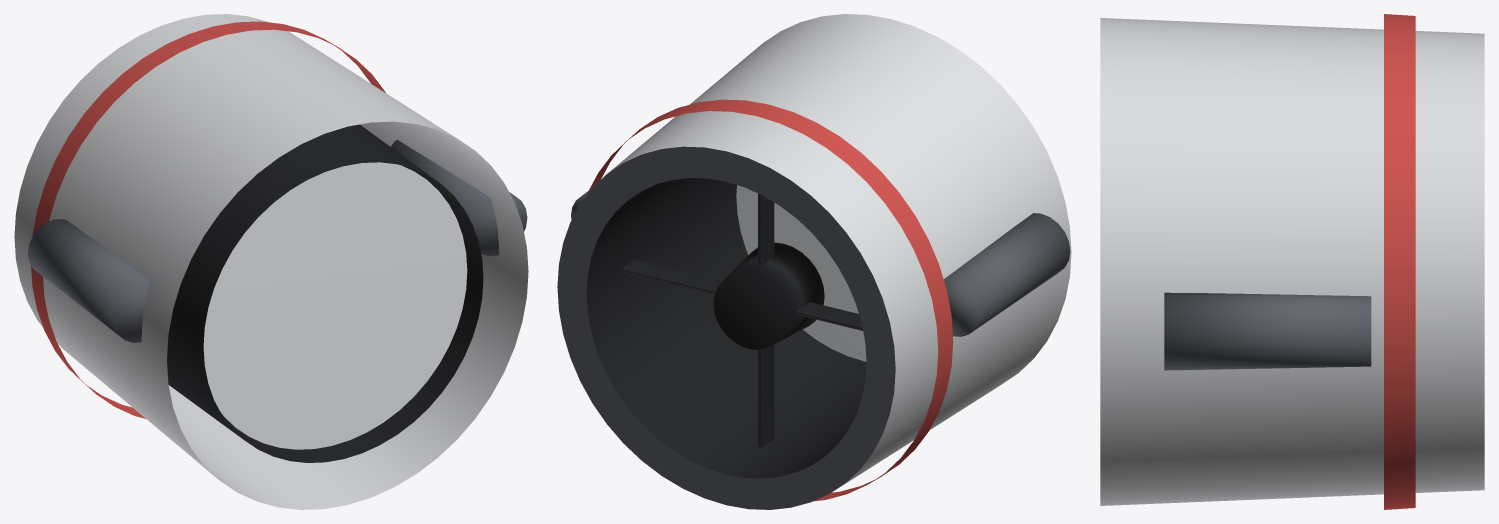
File: mod_bow_primary_telescope.glb
The picture shows the model from 3 angles, left to right: view 1: azimuth 30°, elevation 25°; view 2: azimuth 150°, elevation 25°; view 3: azimuth 270°, elevation 25°; orthographic projection. The views are drawn at different scales.
Visible parts, largest first — view 1: BowTelescope_Shroud, BowTelescope_Primary_Mirror, BowTelescope_Baffle_Spider, BowTelescope_Rim_Trackers, BowTelescope_Apollo_Band; view 2: BowTelescope_Shroud, BowTelescope_Baffle_Spider, BowTelescope_Rim_Trackers, BowTelescope_Apollo_Band, BowTelescope_Primary_Mirror; view 3: BowTelescope_Shroud, BowTelescope_Apollo_Band, BowTelescope_Rim_Trackers.
Boxes of the visible parts, <box> form: BowTelescope_Shroud: <box>14,14,528,509</box>; BowTelescope_Primary_Mirror: <box>203,162,467,449</box>; BowTelescope_Baffle_Spider: <box>167,124,483,462</box>; BowTelescope_Rim_Trackers: <box>28,139,527,342</box>; BowTelescope_Apollo_Band: <box>31,21,385,418</box>; BowTelescope_Shroud: <box>608,14,1071,491</box>; BowTelescope_Baffle_Spider: <box>586,178,866,478</box>; BowTelescope_Rim_Trackers: <box>557,146,1070,509</box>; BowTelescope_Apollo_Band: <box>587,99,953,501</box>; BowTelescope_Primary_Mirror: <box>736,185,866,361</box>; BowTelescope_Shroud: <box>1100,18,1484,505</box>; BowTelescope_Apollo_Band: <box>1384,14,1415,509</box>; BowTelescope_Rim_Trackers: <box>1164,292,1371,370</box>.
Bounding box in the file's own units: 2.84 × 2.52 × 1.95.
